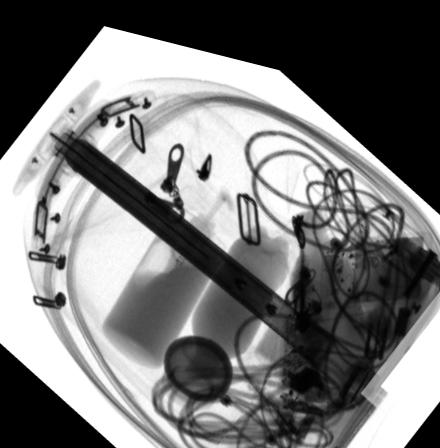Powerbank: (318, 211, 424, 305)
